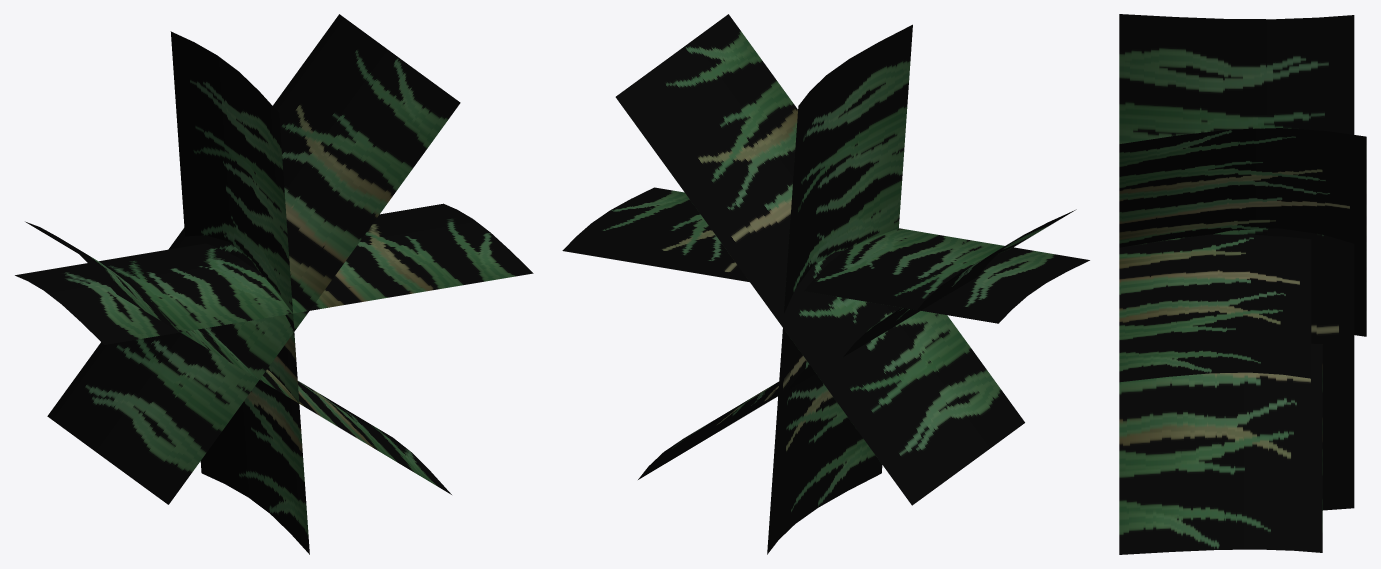
Rendered from Tuft_Meadow.glb.
3 views of the same model, side by side, from view 1: azimuth 30°, elevation 25°; view 2: azimuth 150°, elevation 25°; view 3: azimuth 270°, elevation 25° (orthographic). The views are drawn at different scales.
Visible parts, largest first — view 1: Tuft_Meadow; view 2: Tuft_Meadow; view 3: Tuft_Meadow.
Boxes of the visible parts, bbox=[...] form: Tuft_Meadow: bbox=[15, 14, 533, 554]; Tuft_Meadow: bbox=[562, 14, 1089, 554]; Tuft_Meadow: bbox=[1119, 14, 1366, 554].
Size of the model in its own units: 0.5494 by 0.5497 by 0.2575.
Materials: 1 (1 with a texture image).
